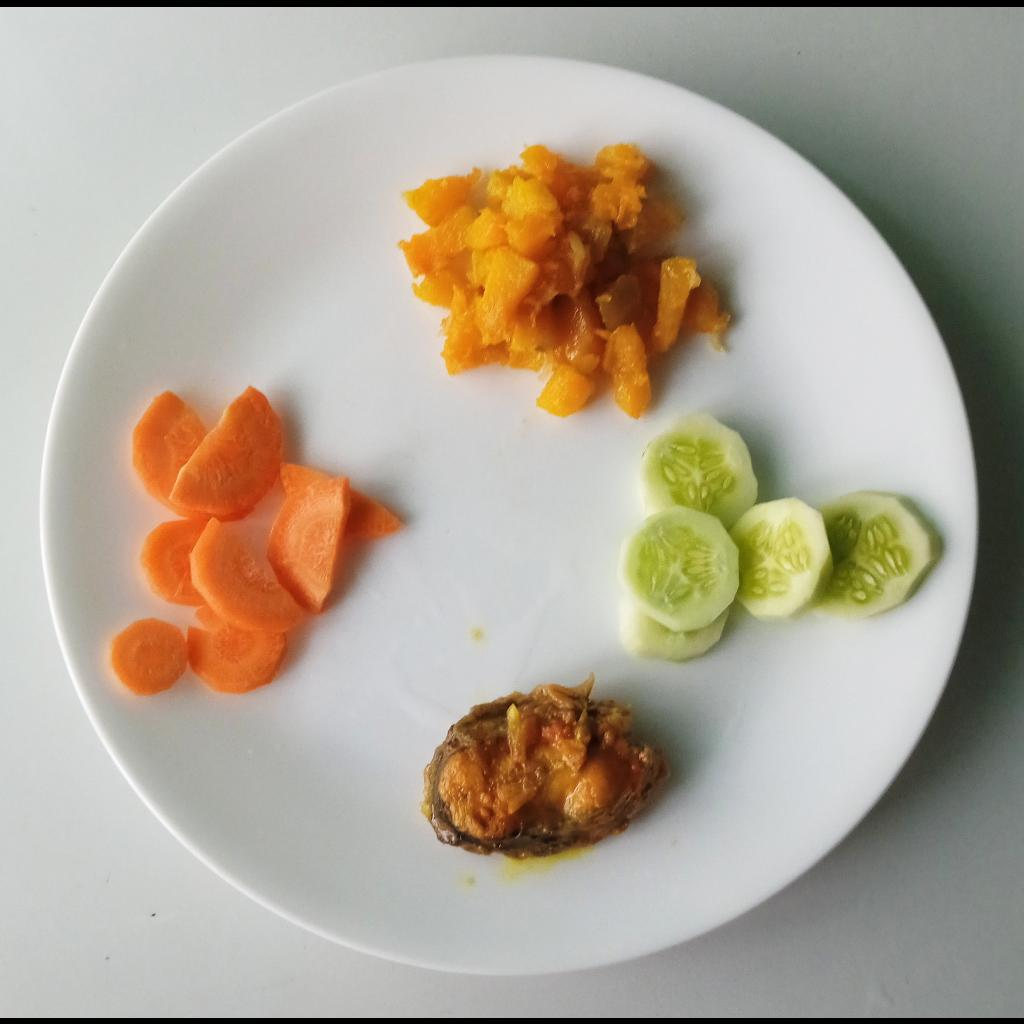carrot: (107, 382, 402, 695)
cucumber: (613, 406, 936, 664)
fish: (420, 667, 675, 865)
kumra-vaji: (399, 138, 737, 421)
